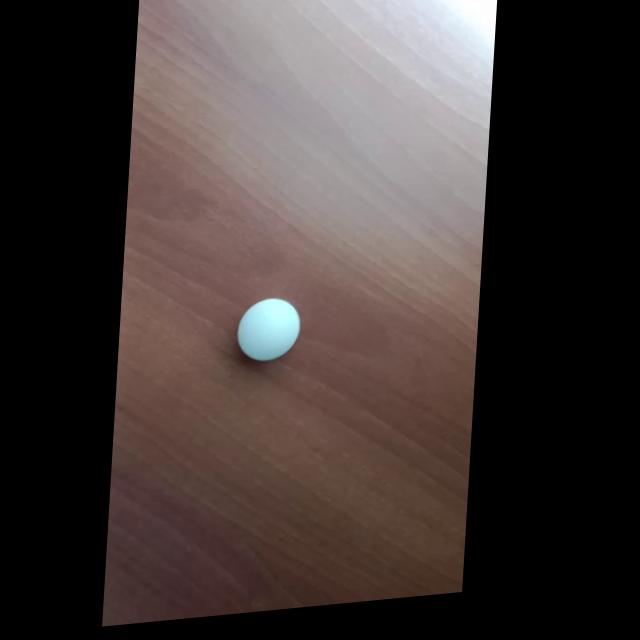white ball: (235, 294, 303, 364)
